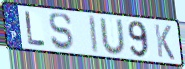9: (127, 19, 150, 59)
I: (87, 15, 100, 56)
K: (153, 22, 176, 62)
L: (23, 9, 47, 47)
S: (48, 12, 74, 52)
U: (98, 17, 128, 56)
